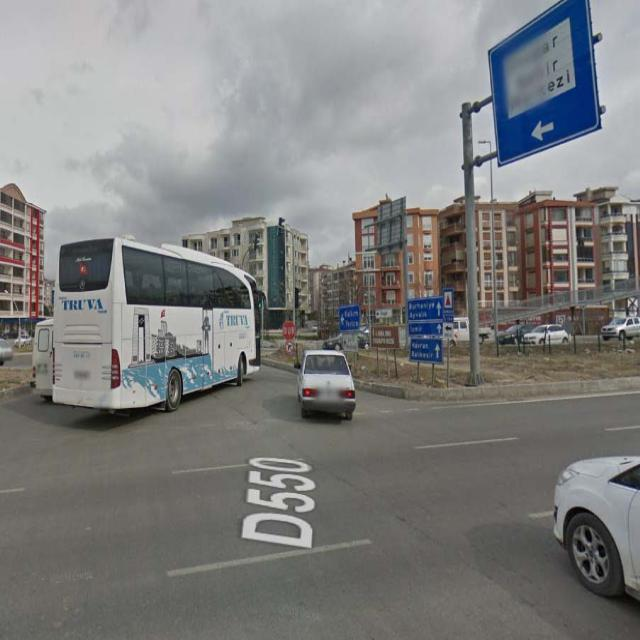dur: (282, 321, 296, 340)
sagadonulmez: (286, 341, 292, 353)
